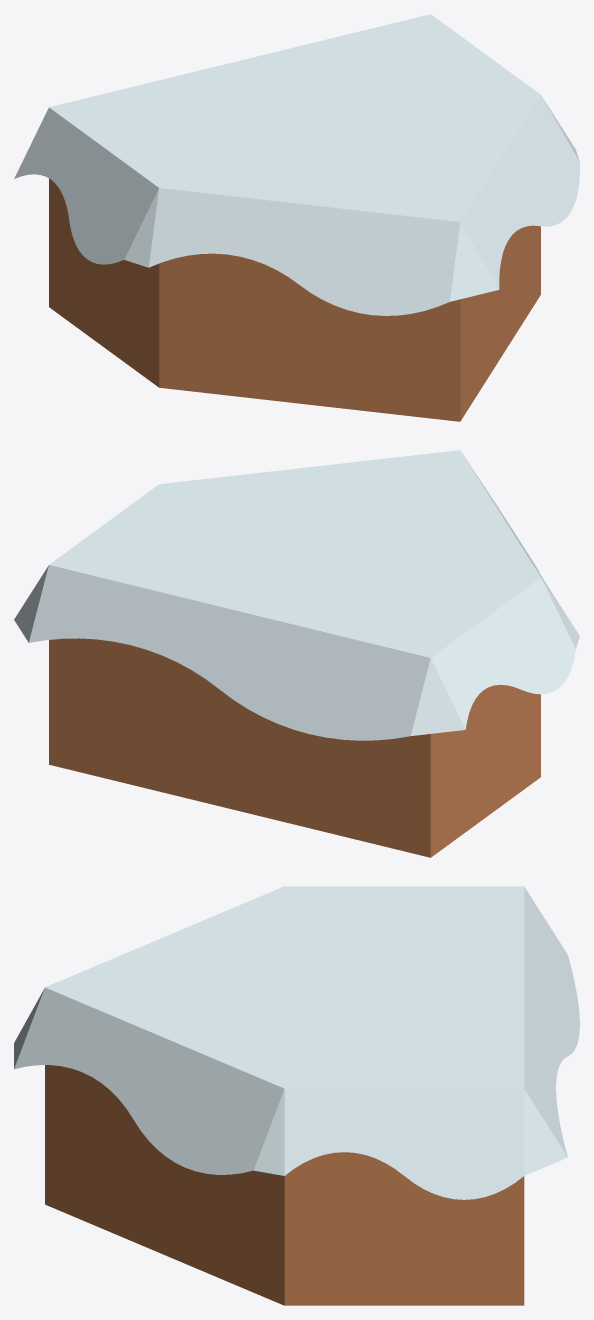
The model's file is blockSnowEnd.fbx.
3 views of the same model, one above another, from view 1: azimuth 30°, elevation 25°; view 2: azimuth 150°, elevation 25°; view 3: azimuth 270°, elevation 25° (orthographic). The views are drawn at different scales.
Parts seen in each view (by area): view 1: blockSnowEnd; view 2: blockSnowEnd; view 3: blockSnowEnd.
Part boxes in pixels (x1,y1,x2,y2): blockSnowEnd: (14,14,579,421); blockSnowEnd: (14,450,579,857); blockSnowEnd: (14,886,579,1305).
Bounding box in the file's own units: 12.33 × 5 × 11.81.
